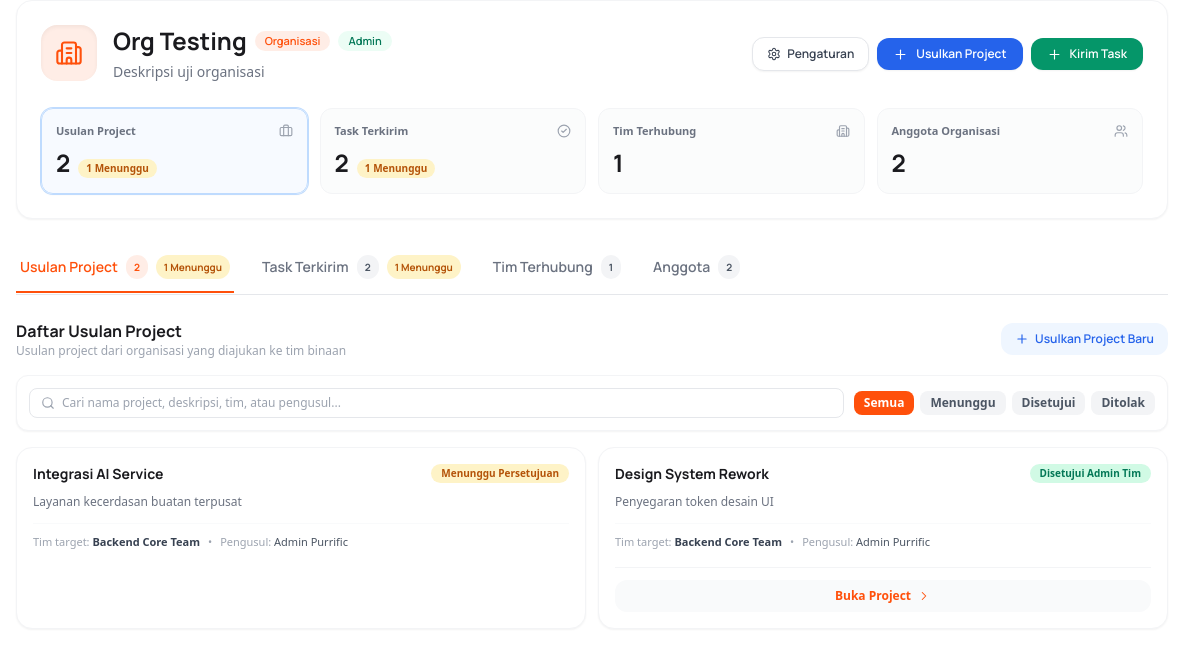
Test: OrganizationPage › filters and searches tasks properly in Task Terkirim tab
Expected: the heading "Org Testing" is shown, [113,25,247,57]
// Pindah ke tab Task Terkirim via tablist
Click the tab "Task Terkirim 2 1 Menunggu" at [361, 268], box [258,243,465,293]
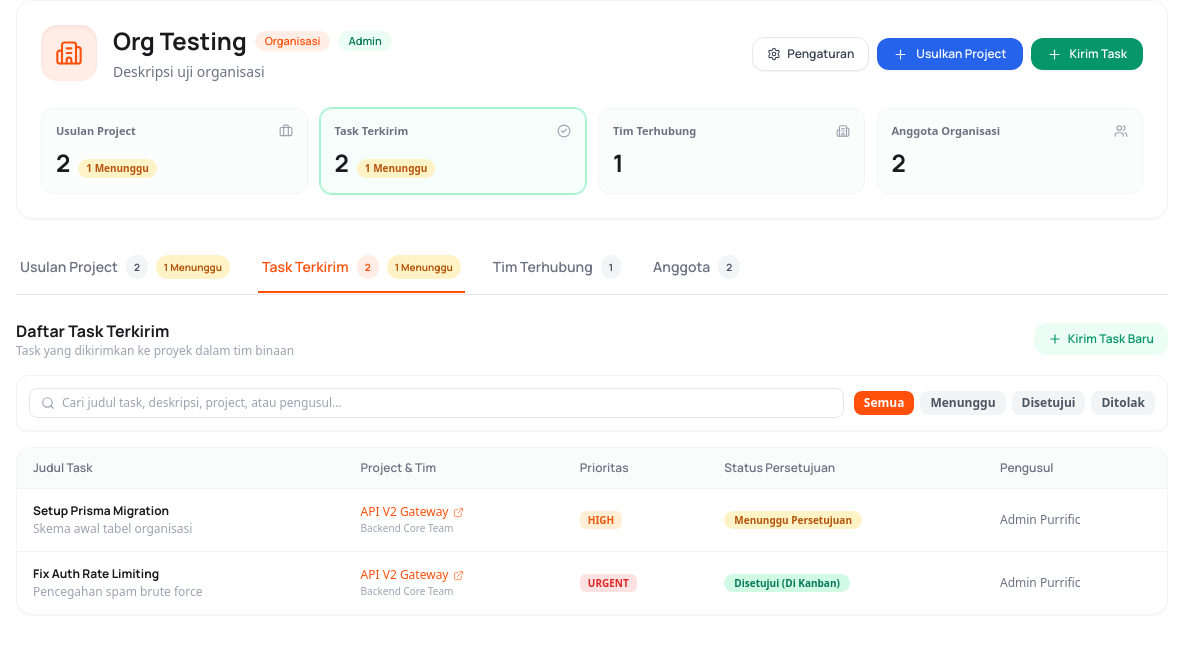
Expected: the text "Setup Prisma Migration" is shown, [33,502,169,519]
Expected: the text "Fix Auth Rate Limiting" is shown, [33,565,159,582]
// Search task
Type "Prisma" into the field with placeholder "Cari judul task, deskripsi, project, atau pengusul..." at [436, 403], box [29,388,844,418]
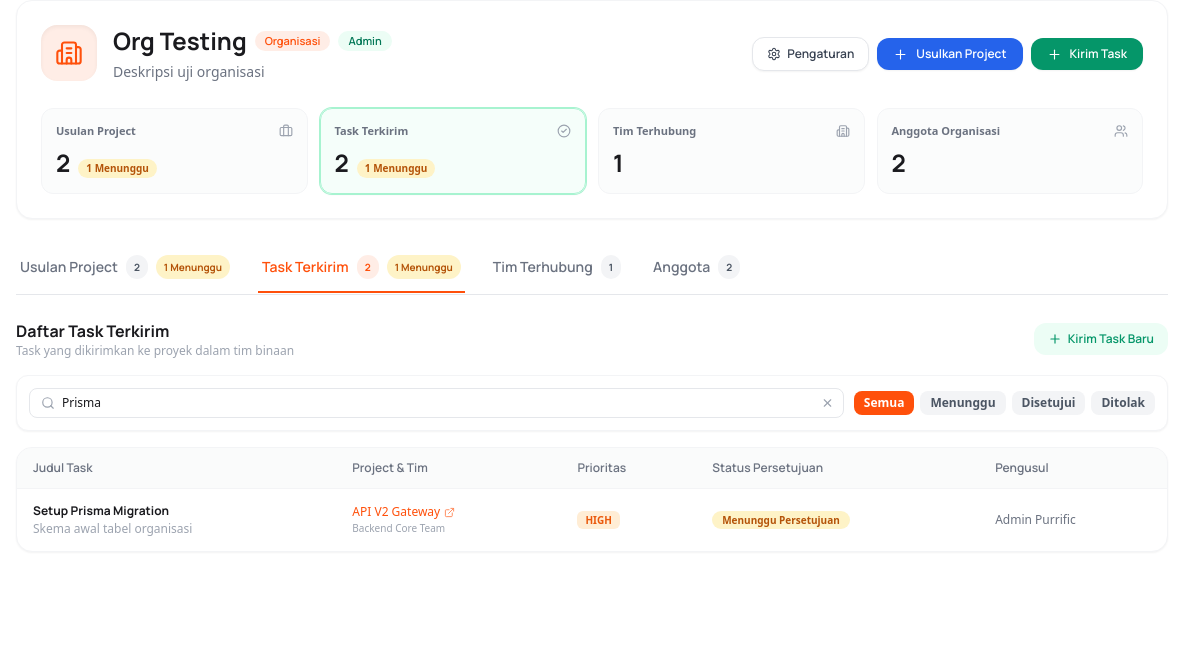
Expected: the text "Setup Prisma Migration" is shown, [33,502,169,519]
Expected: the text "Fix Auth Rate Limiting" is gone
